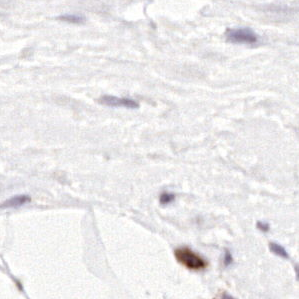Lymphocyte: (173, 244, 211, 273)
